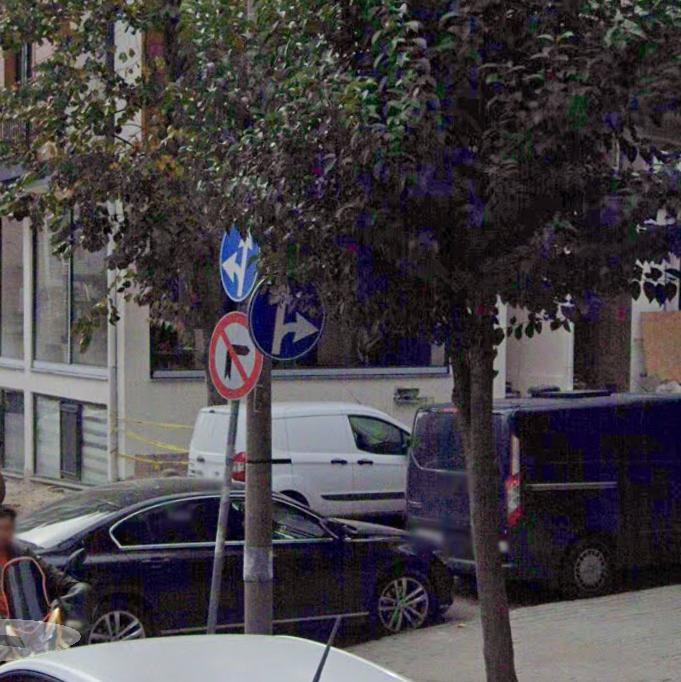rightturnsareforbidden: (209, 317, 260, 394)
